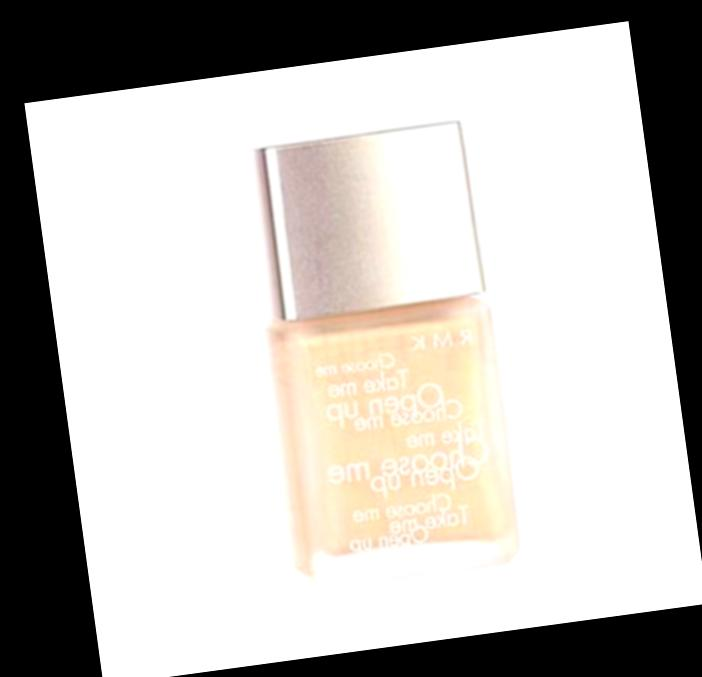cosmetic: (232, 116, 529, 594)
